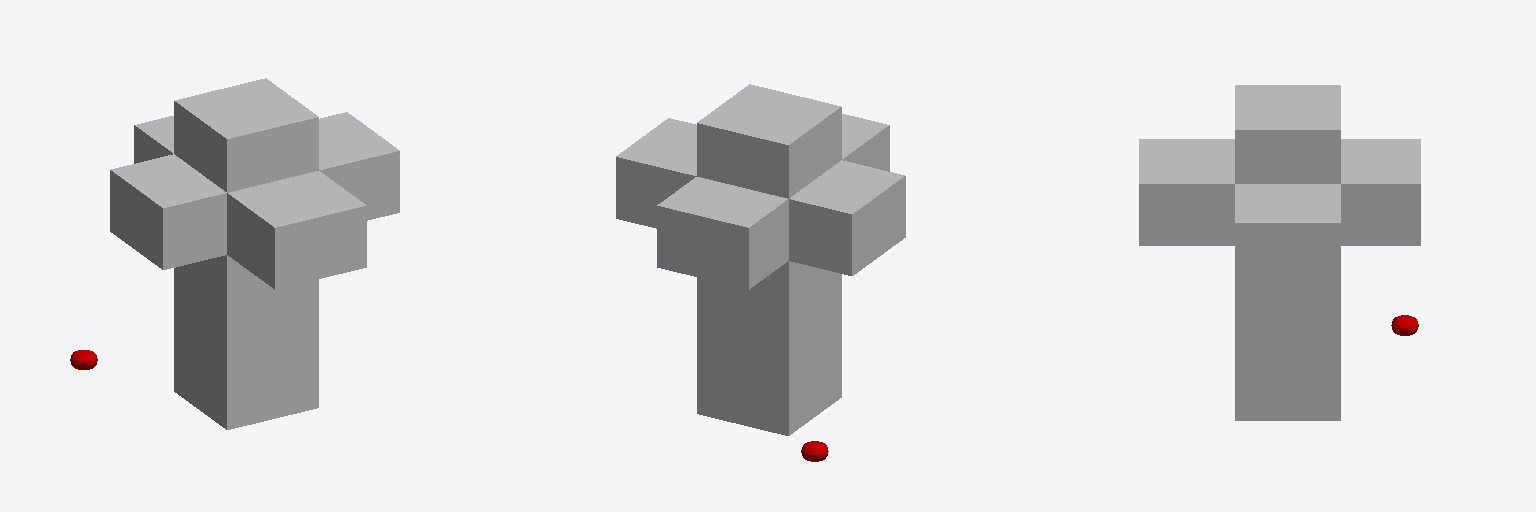
File: cross.obj
3 views of the same model, side by side, from view 1: azimuth 30°, elevation 25°; view 2: azimuth 150°, elevation 25°; view 3: azimuth 270°, elevation 25° (orthographic).
Visible parts, largest first — view 1: Cube; view 2: Cube; view 3: Cube.
Part boxes in pixels (left/top/right/bottom): Cube: left=110, top=78, right=399, bottom=429; Cube: left=616, top=84, right=905, bottom=435; Cube: left=1139, top=85, right=1420, bottom=420.
Size of the model in its own units: 5.3 by 6.05 by 5.3.